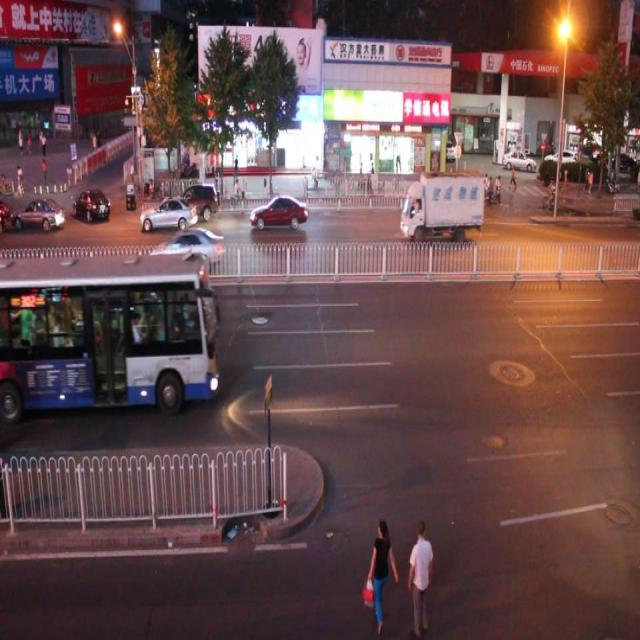bus: (401, 173, 483, 239)
car: (152, 225, 224, 272), (249, 192, 307, 232), (168, 180, 221, 222), (12, 191, 66, 232), (140, 195, 197, 233), (74, 185, 111, 223)
van: (0, 255, 216, 404)
